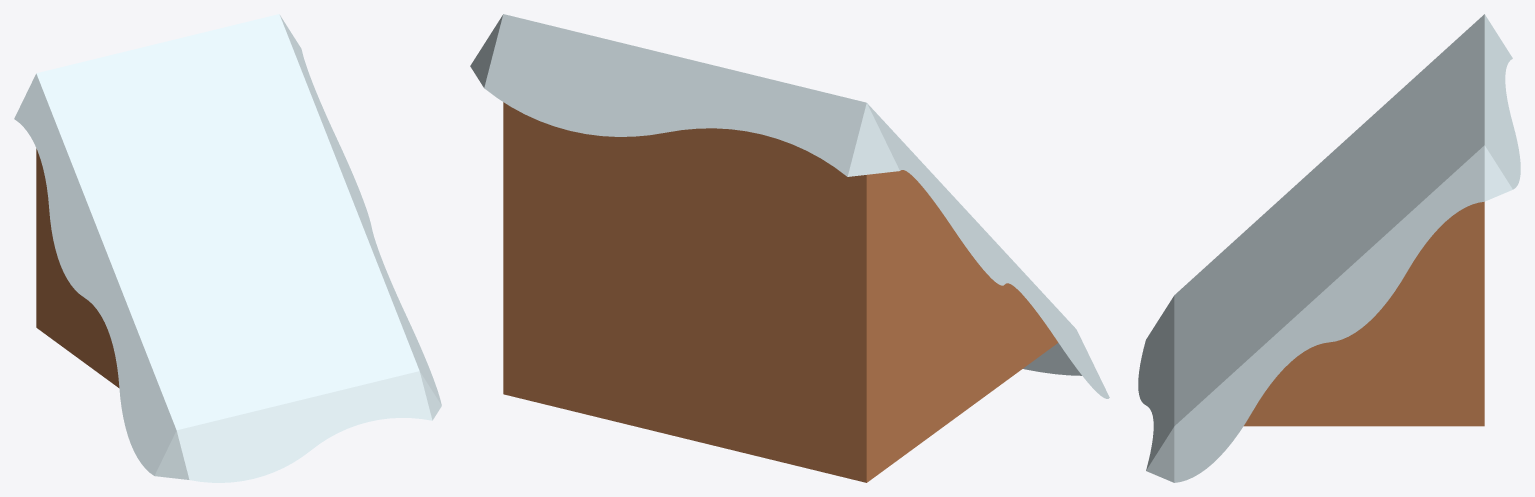
The model's file is blockSnowSlope.dae.
The picture shows the model from 3 angles, left to right: view 1: azimuth 30°, elevation 25°; view 2: azimuth 150°, elevation 25°; view 3: azimuth 270°, elevation 25°; orthographic projection. The views are drawn at different scales.
Parts seen in each view (by area): view 1: blockSnowSlope; view 2: blockSnowSlope; view 3: blockSnowSlope.
Part boxes in pixels (box(x1,y1,x2,y2)): blockSnowSlope: box(14, 14, 441, 482); blockSnowSlope: box(470, 14, 1109, 482); blockSnowSlope: box(1138, 14, 1520, 482).
Size of the model in its own units: 1.23 by 1.2 by 1.23.
